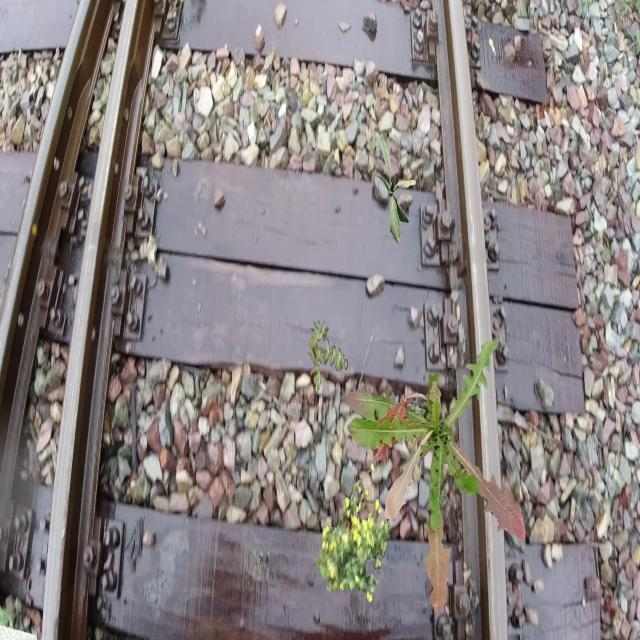Plant: (346, 339, 526, 617), (316, 463, 391, 603), (376, 134, 416, 244), (307, 320, 348, 392)
